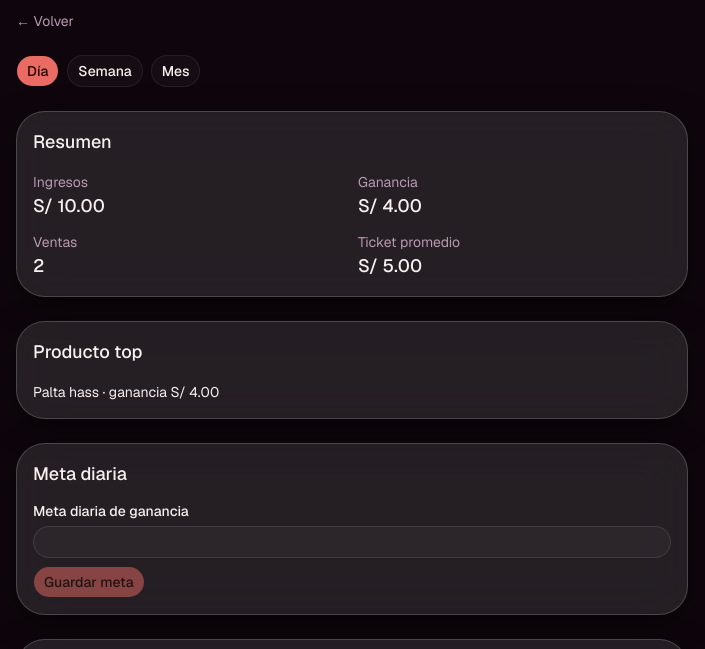
KpisPage › saves a new daily goal
Step 1. Type "10.00" into the field labelled "Meta diaria de ganancia" → (352, 542), box [33, 526, 671, 558]
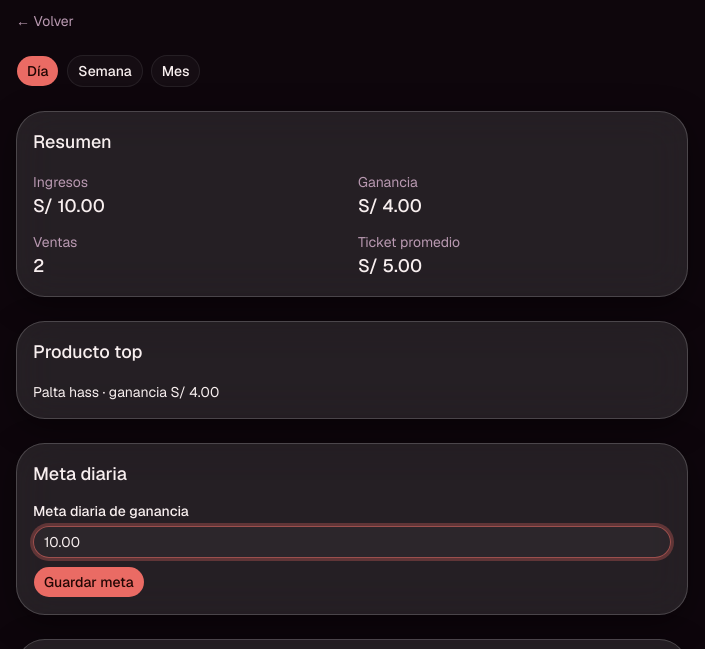
Step 2. Click the button "Guardar meta" → (89, 582), box [33, 566, 145, 598]
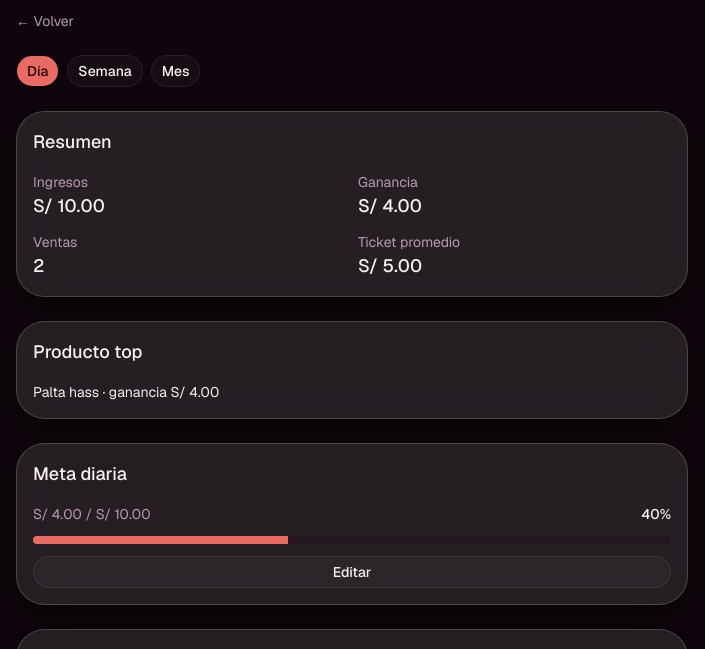
Now the text "S/ 4.00 / S/ 10.00" is shown, box [33, 504, 150, 524]
